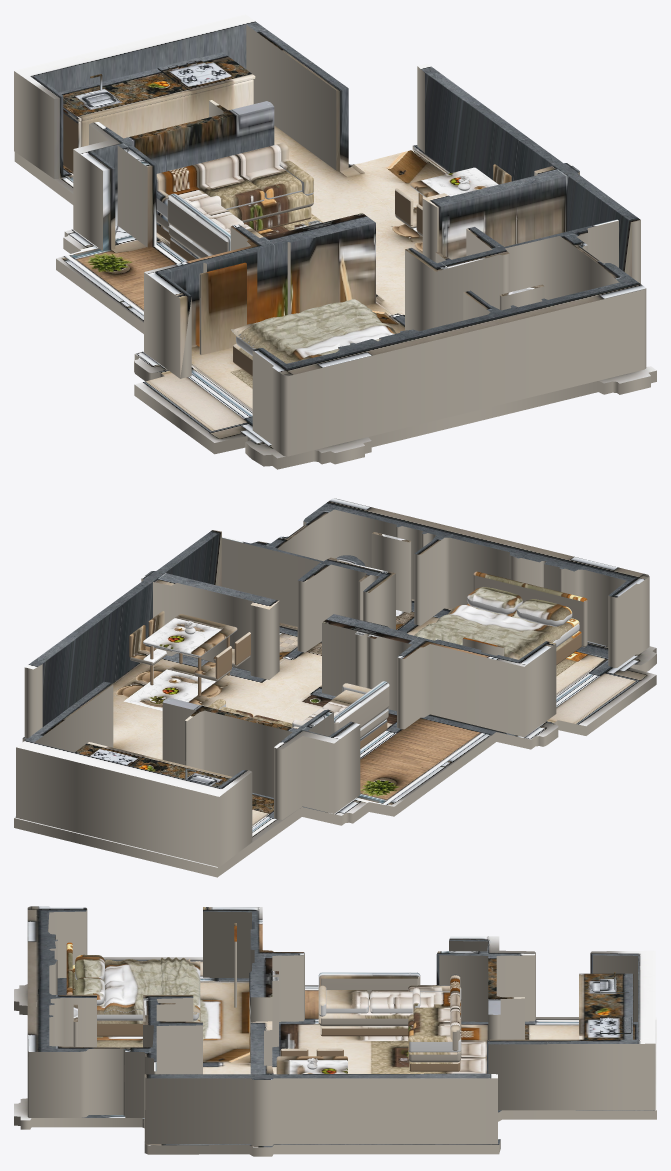
File: p13-07-u08-0112-image-model.glb
3 renders of one model, top to bottom at view 1: azimuth 30°, elevation 25°; view 2: azimuth 150°, elevation 25°; view 3: azimuth 270°, elevation 25°, orthographic. The views are drawn at different scales.
Visible parts, largest first — view 1: Partition walls, Apartment floor, Kitchen cabinets, Stone worktop, Draped bed linen, Sofa back, Draped bed linen.001, Sofa back.001, Upholstered sofa frame, Marble dining top, Seat cushion.001, Seat cushion.002 (+2 smaller); view 2: Partition walls, Apartment floor, Draped bed linen, Marble dining top, Upholstered headboard, Stone worktop, Sofa back.001, Draped bed linen.001, Tailored pillow, Tailored pillow.001; view 3: Partition walls, Apartment floor, Draped bed linen, Stone worktop, Sofa back.001, Upholstered sofa frame.001, Marble dining top, Draped bed linen.001, Seat cushion.003, Seat cushion.004, Sofa plinth.001, Padded armrest.001 (+12 smaller).
Boxes of the visible parts, x1=… form: Partition walls: x1=14, y1=14, x2=646, y2=456; Apartment floor: x1=14, y1=125, x2=656, y2=469; Kitchen cabinets: x1=63, y1=79, x2=253, y2=172; Stone worktop: x1=63, y1=52, x2=255, y2=121; Draped bed linen: x1=231, y1=300, x2=396, y2=363; Sofa back: x1=156, y1=143, x2=288, y2=193; Draped bed linen.001: x1=236, y1=299, x2=377, y2=346; Sofa back.001: x1=167, y1=193, x2=230, y2=255; Upholstered sofa frame: x1=156, y1=192, x2=313, y2=230; Marble dining top: x1=410, y1=167, x2=498, y2=197; Seat cushion.001: x1=199, y1=175, x2=264, y2=209; Seat cushion.002: x1=245, y1=166, x2=301, y2=199; Partition walls: x1=16, y1=498, x2=649, y2=867; Apartment floor: x1=14, y1=599, x2=656, y2=877; Draped bed linen: x1=416, y1=605, x2=565, y2=654; Marble dining top: x1=143, y1=614, x2=237, y2=657; Upholstered headboard: x1=473, y1=571, x2=587, y2=647; Stone worktop: x1=75, y1=742, x2=231, y2=783; Sofa back.001: x1=334, y1=681, x2=389, y2=732; Draped bed linen.001: x1=414, y1=623, x2=533, y2=659; Tailored pillow: x1=516, y1=599, x2=572, y2=626; Tailored pillow.001: x1=467, y1=587, x2=522, y2=614; Partition walls: x1=27, y1=906, x2=655, y2=1145; Apartment floor: x1=14, y1=957, x2=656, y2=1156; Draped bed linen: x1=103, y1=959, x2=200, y2=1013; Stone worktop: x1=579, y1=973, x2=633, y2=1039; Sofa back.001: x1=318, y1=972, x2=420, y2=997; Upholstered sofa frame.001: x1=318, y1=997, x2=411, y2=1026; Marble dining top: x1=276, y1=1056, x2=347, y2=1074; Draped bed linen.001: x1=160, y1=957, x2=190, y2=994; Seat cushion.003: x1=326, y1=990, x2=368, y2=1013; Seat cushion.004: x1=370, y1=990, x2=412, y2=1013; Sofa plinth.001: x1=320, y1=1026, x2=408, y2=1036; Padded armrest.001: x1=408, y1=1035, x2=461, y2=1052.
Size of the model in its own units: 7.03 by 1.3 by 10.05.
Materials: 13 (3 with a texture image).
